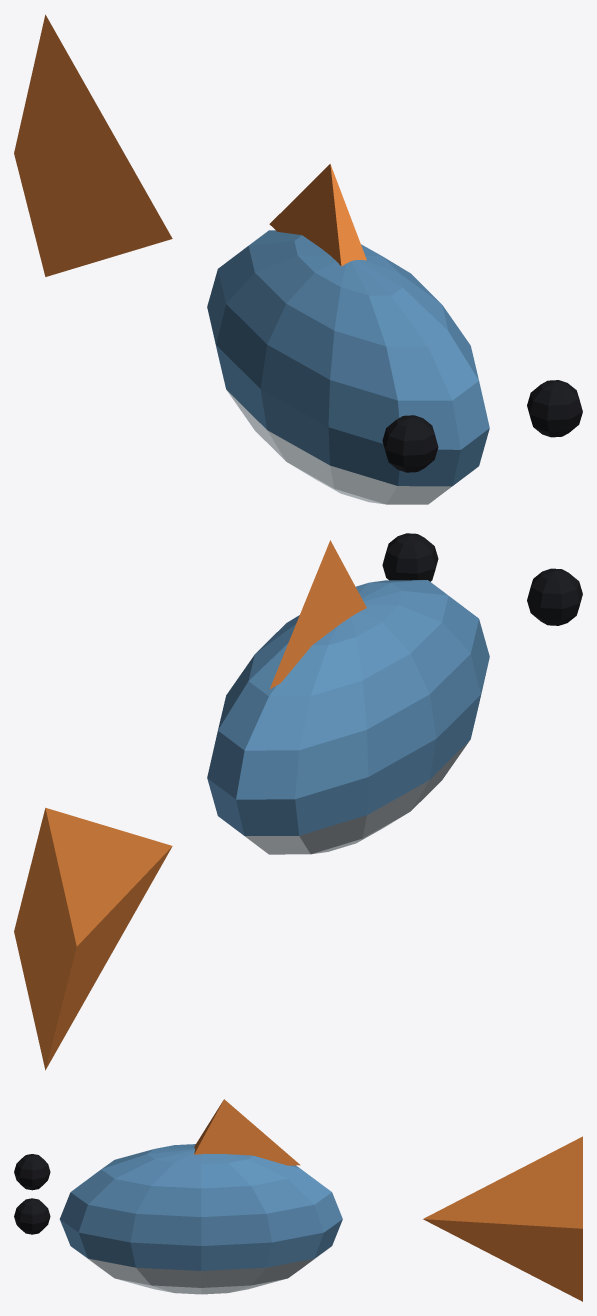
The model's file is fish.glb.
The picture shows the model from 3 angles, top to bottom: view 1: azimuth 30°, elevation 25°; view 2: azimuth 150°, elevation 25°; view 3: azimuth 270°, elevation 25°; orthographic projection. The views are drawn at different scales.
Visible parts, largest first — view 1: Fish; view 2: Fish; view 3: Fish.
Boxes of the visible parts, x1,y1,x2,y2 form: Fish: (14,14,582,504); Fish: (14,533,582,1070); Fish: (14,1099,582,1301).
Bounding box in the file's own units: 0.31 × 0.49 × 1.25.
